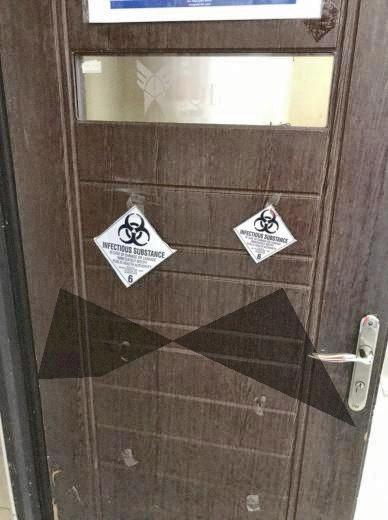infectious-substance: (94, 204, 174, 289), (233, 204, 296, 264)
